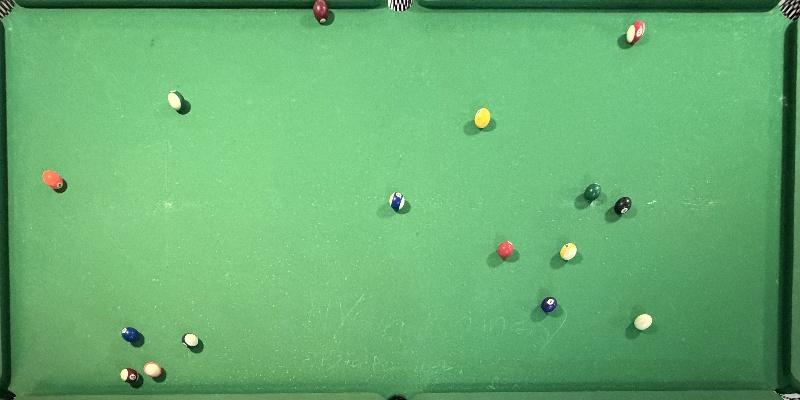bola: (163, 89, 190, 115), (623, 19, 648, 46), (308, 1, 332, 28), (38, 171, 67, 193), (630, 311, 656, 334), (472, 105, 493, 132), (496, 239, 518, 262), (386, 191, 408, 213), (583, 182, 606, 203), (118, 326, 141, 346), (142, 362, 166, 381), (538, 295, 562, 314), (180, 332, 201, 353), (558, 243, 579, 264), (613, 196, 634, 217), (118, 368, 141, 387)
